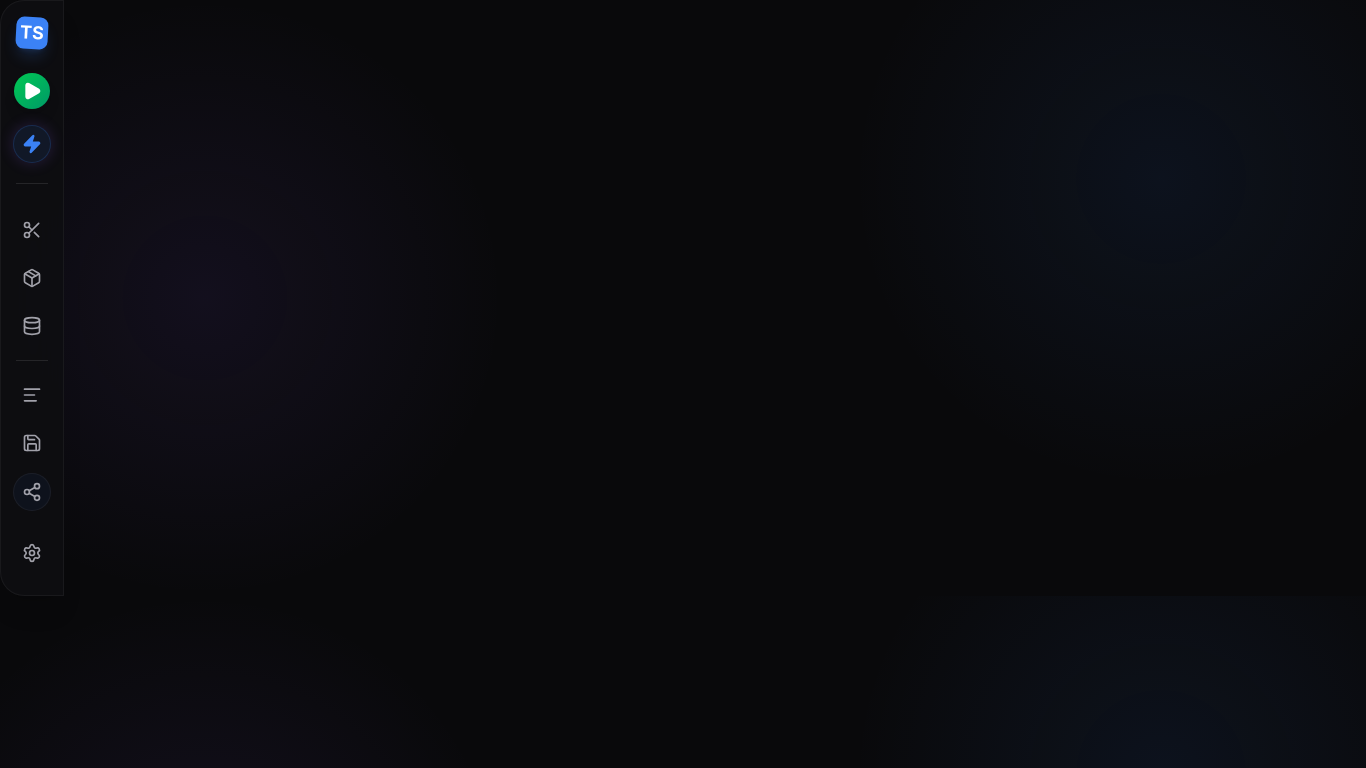
it: Sidebar Component › shows settings popover when settings icon is clicked
Click the button titled "Settings". click: click(32, 553)
box: [14, 535, 50, 571]
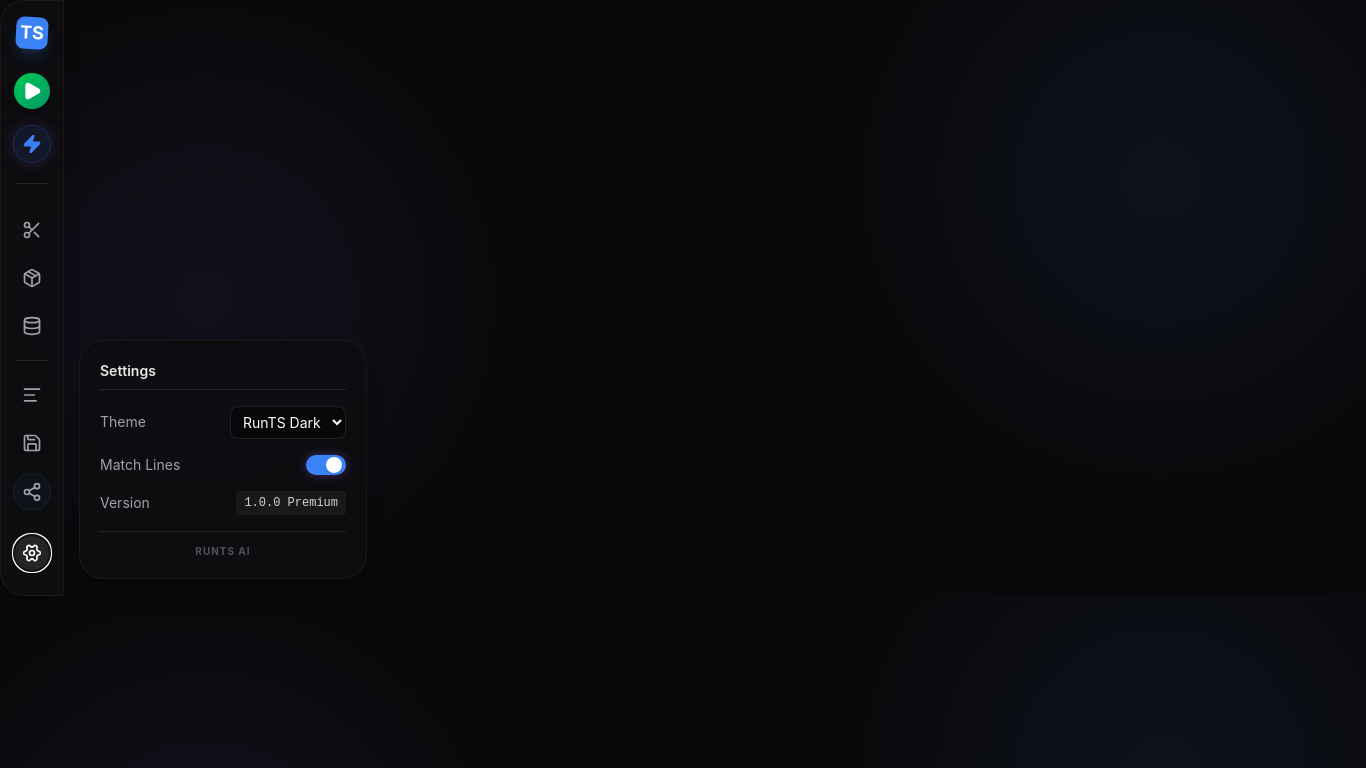
Now the heading "Settings" is shown, box [100, 361, 346, 390]
